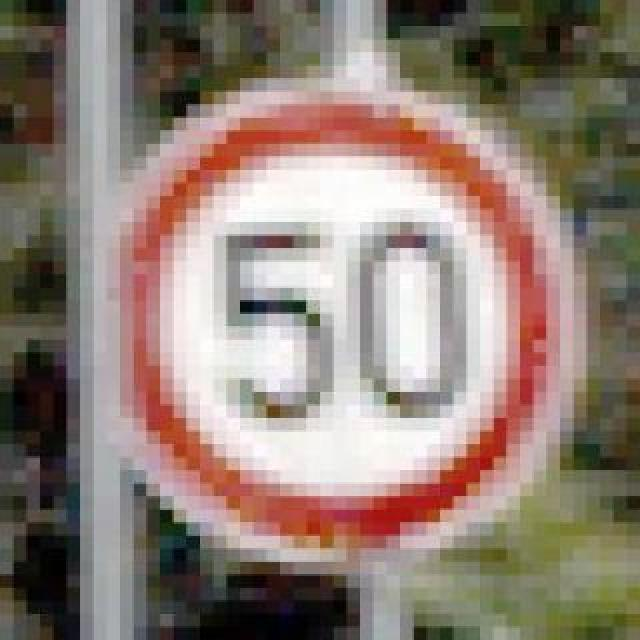50 kph: (80, 66, 560, 550)
